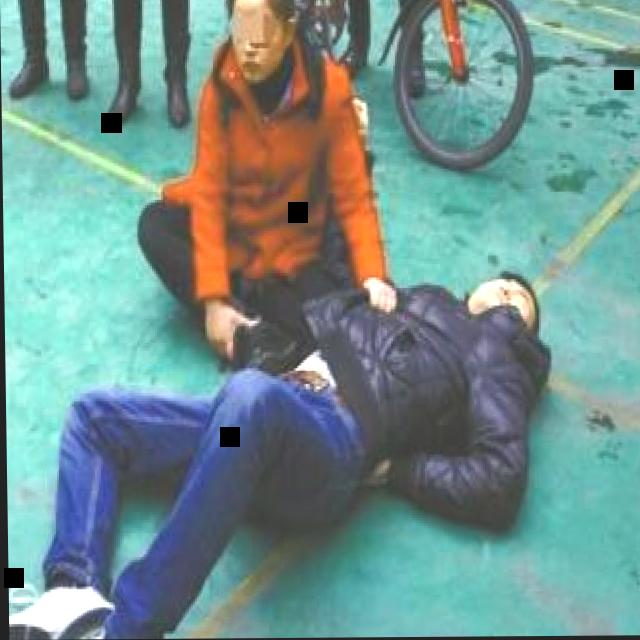Fall-Detected: (3, 243, 565, 640)
